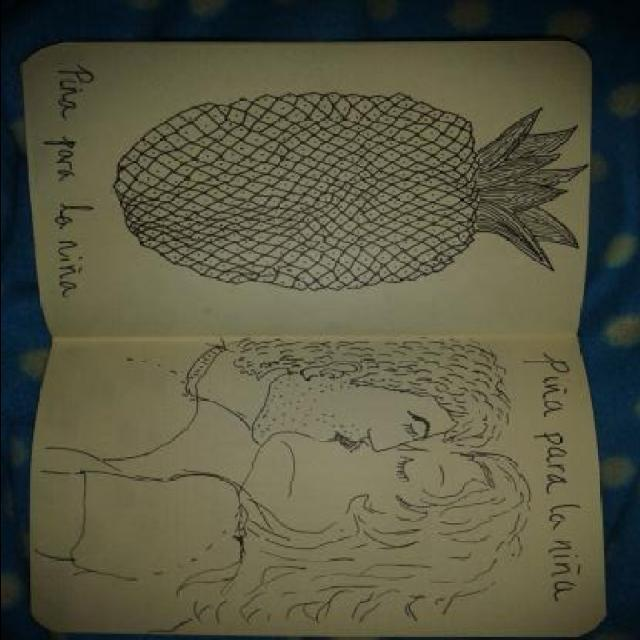Pineapple: (109, 88, 591, 297)
